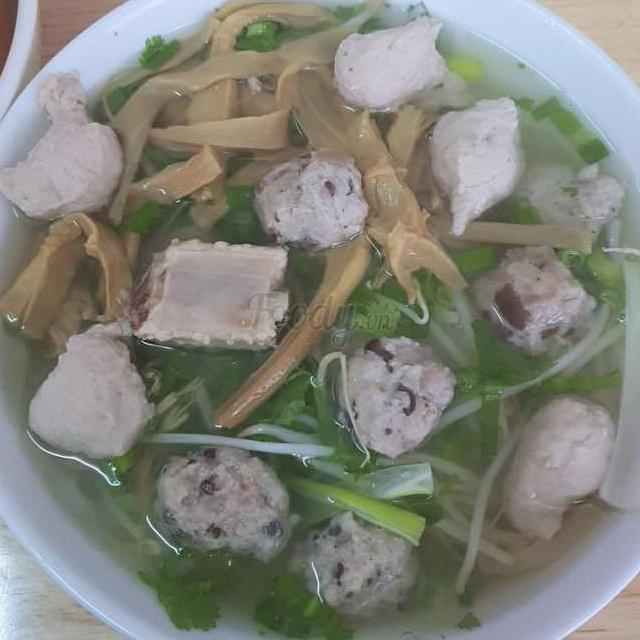bun: (378, 390, 544, 605)
vien moc: (150, 434, 306, 562), (286, 503, 430, 630), (333, 331, 464, 468), (461, 237, 602, 358), (250, 144, 382, 258)
